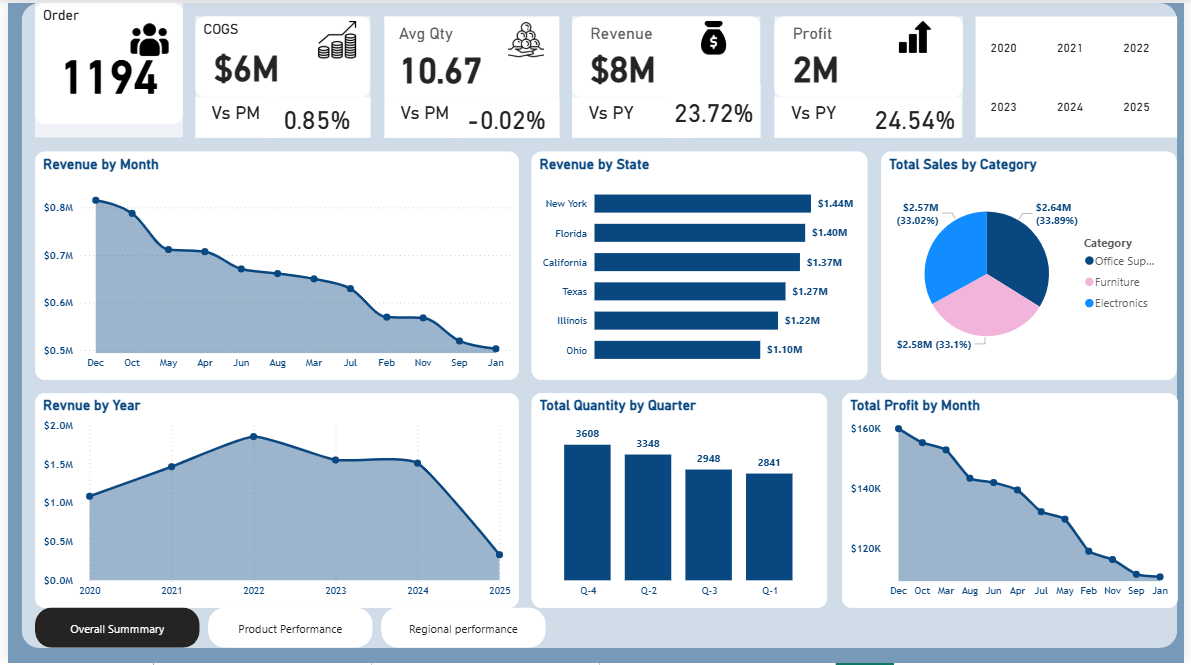

This screenshot's page, from the dashboard's own definition file:
{"tool":"powerbi","page":{"name":"Overall Summmary","canvas":[1400,786],"ordinal":0},"visuals":[{"type":"shape","box":[912,16,224,144],"z":0},{"type":"shape","box":[672,16,224,144],"z":1000},{"type":"shape","box":[224,16,208,144],"z":2000},{"type":"shape","box":[16,0,1376,768],"z":3000},{"type":"cardVisual","fields":{"Data":["Date Table.TP"]},"box":[912,16,224,96],"z":4000},{"type":"cardVisual","title":"COGS","fields":{"Data":["Sales Dataset.TCOGS"]},"box":[224,16,208,96],"z":5000},{"type":"lineChart","title":"Revenue by Month","fields":{"Y":["Sum(Sales Dataset.Sales)"],"Category":["Date Table.Month Name"]},"box":[32,176,576,272],"z":6000},{"type":"cardVisual","fields":{"Data":["Sales Dataset.Revenue"]},"box":[672,16,224,96],"z":7000},{"type":"lineChart","title":"Total Profit by Month","fields":{"Category":["Date Table.Month Name"],"Y":["Sum(Sales Dataset.Profit)"]},"box":[992,464,400,256],"z":8000},{"type":"clusteredBarChart","title":"Revenue by State","fields":{"Y":["Sum(Sales Dataset.Sales)"],"Category":["Sales Dataset.State"]},"box":[624,176,400,272],"z":9000},{"type":"clusteredColumnChart","title":"Total Quantity by Quarter","fields":{"Y":["Sum(Sales Dataset.Quantity)"],"Category":["Date Table.Quarter"]},"box":[624,464,352,256],"z":10000},{"type":"pieChart","title":"Total Sales by Category","fields":{"Category":["Sales Dataset.Category"],"Y":["Sum(Sales Dataset.Sales)","select"]},"box":[1040,176,352,272],"z":11000},{"type":"lineChart","title":"Revnue by Year","fields":{"Y":["Sum(Sales Dataset.Sales)"],"Category":["Date Table.Year"]},"box":[32,464,576,256],"z":12000},{"type":"shape","box":[32,0,176,160],"z":13000},{"type":"card","title":"Order","fields":{"Values":["CountNonNull(Sales Dataset.Order_ID)"]},"box":[32,0,176,144],"z":14000},{"type":"image","box":[128,16,80,55],"z":15000},{"type":"card","fields":{"Values":["Date Table.MoM COG%"]},"box":[304,112,128,48],"z":16000},{"type":"textbox","box":[224,112,96,48],"z":17000},{"type":"image","box":[352,16,80,55],"z":18000},{"type":"shape","box":[448,16,208,144],"z":19000},{"type":"cardVisual","fields":{"Data":["Sales Dataset.AvgQ"]},"box":[448,16,208,96],"z":20000},{"type":"image","box":[576,16,80,55],"z":21000},{"type":"textbox","box":[448,112,96,48],"z":22000},{"type":"card","fields":{"Values":["Sales Dataset.MoM Qty%"]},"box":[528,112,128,48],"z":23000},{"type":"textbox","box":[672,112,144,48],"z":24000},{"type":"card","fields":{"Values":["Sales Dataset.YOY %"]},"box":[784,96,112,64],"z":25000},{"type":"image","box":[800,16,80,50],"z":26000},{"type":"image","box":[1040,16,80,48],"z":27000},{"type":"textbox","box":[912,112,112,48],"z":28000},{"type":"card","fields":{"Values":["Sales Dataset.YOY P %"]},"box":[1024,112,112,48],"z":29000},{"type":"advancedSlicerVisual","fields":{"Values":["Date Table.Year"]},"box":[1152,16,240,144],"z":30000},{"type":"pageNavigator","box":[32,720,608,48],"z":31000}]}

Visuals, with their boxes in screenshot pixels (x1, y1, x2, y2), scaled from the page's 1400x786 canvas onto the 1191x665 screenshot:
shape: 776, 14, 966, 135
shape: 572, 14, 762, 135
shape: 191, 14, 368, 135
shape: 14, 0, 1184, 650
cardVisual - Date Table.TP: 776, 14, 966, 95
"COGS" cardVisual: 191, 14, 368, 95
"Revenue by Month" lineChart: 27, 149, 517, 379
cardVisual - Sales Dataset.Revenue: 572, 14, 762, 95
"Total Profit by Month" lineChart: 844, 393, 1184, 609
"Revenue by State" clusteredBarChart: 531, 149, 871, 379
"Total Quantity by Quarter" clusteredColumnChart: 531, 393, 830, 609
"Total Sales by Category" pieChart: 885, 149, 1184, 379
"Revnue by Year" lineChart: 27, 393, 517, 609
shape: 27, 0, 177, 135
"Order" card: 27, 0, 177, 122
image: 109, 14, 177, 60
card - Date Table.MoM COG%: 259, 95, 368, 135
textbox: 191, 95, 272, 135
image: 299, 14, 368, 60
shape: 381, 14, 558, 135
cardVisual - Sales Dataset.AvgQ: 381, 14, 558, 95
image: 490, 14, 558, 60
textbox: 381, 95, 463, 135
card - Sales Dataset.MoM Qty%: 449, 95, 558, 135
textbox: 572, 95, 694, 135
card - Sales Dataset.YOY %: 667, 81, 762, 135
image: 681, 14, 749, 56
image: 885, 14, 953, 54
textbox: 776, 95, 871, 135
card - Sales Dataset.YOY P %: 871, 95, 966, 135
advancedSlicerVisual - Date Table.Year: 980, 14, 1184, 135
pageNavigator: 27, 609, 544, 650
